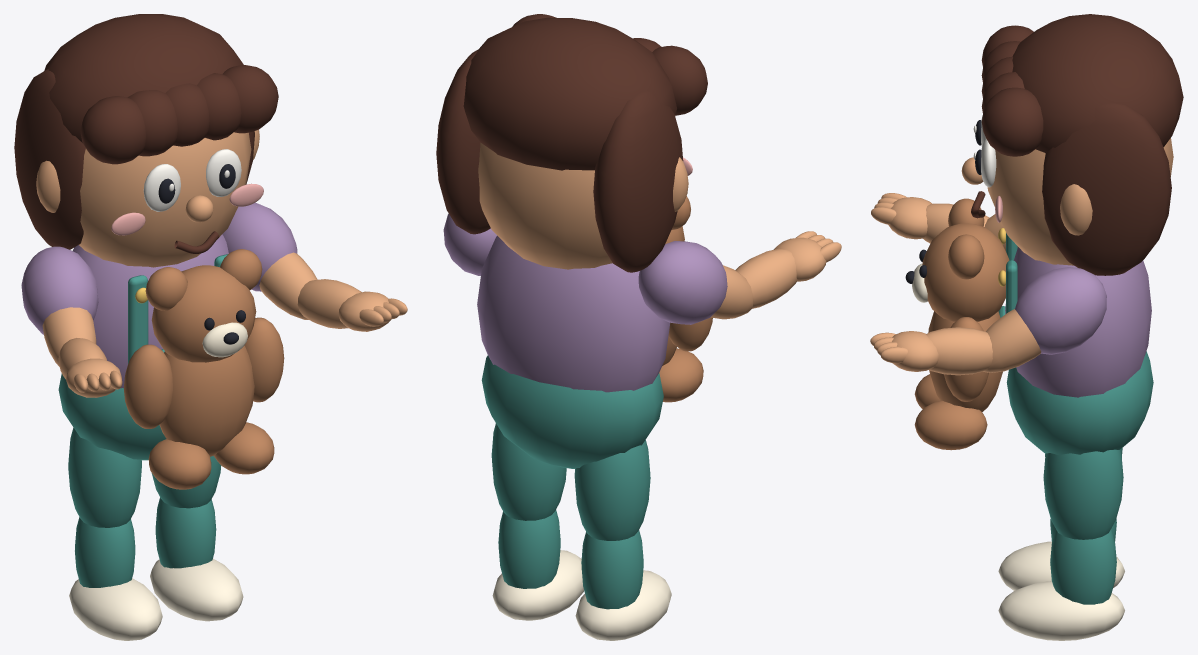
Rendered from mommy-hug.glb.
The picture shows the model from 3 angles, left to right: view 1: azimuth 30°, elevation 25°; view 2: azimuth 150°, elevation 25°; view 3: azimuth 270°, elevation 25°; orthographic projection. The views are drawn at different scales.
Visible parts, largest first — view 1: clay head, hair cap, bob hair, bear tummy, bear head, trouser leg, soft shirt, shirt sleeve, overalls, little shoe, little shoe.001, fringe (+28 smaller); view 2: hair cap, soft shirt, overalls, bob hair, clay head, trouser leg, shirt sleeve, bob hair.001, trouser leg.001, lower leg.001, lower leg, little shoe (+9 smaller); view 3: bob hair.001, hair cap, soft shirt, overalls, trouser leg.001, shirt sleeve.001, bear head, clay head, little shoe.001, lower leg.001, fringe.004, bear foot.001 (+18 smaller).
Boxes of the visible parts, <box> form: clay head: <box>79,132,251,267</box>; hair cap: <box>44,14,243,142</box>; bob hair: <box>14,69,85,249</box>; bear tummy: <box>159,346,254,456</box>; bear head: <box>151,265,256,362</box>; trouser leg: <box>68,427,141,527</box>; soft shirt: <box>72,234,228,388</box>; shirt sleeve: <box>21,246,98,334</box>; overalls: <box>58,373,166,460</box>; little shoe: <box>69,578,162,640</box>; little shoe.001: <box>150,558,243,621</box>; fringe: <box>80,96,145,164</box>; hair cap: <box>463,17,676,170</box>; soft shirt: <box>477,235,670,392</box>; overalls: <box>481,355,663,468</box>; bob hair: <box>593,91,683,272</box>; clay head: <box>478,142,612,269</box>; trouser leg: <box>574,440,650,540</box>; shirt sleeve: <box>638,241,727,324</box>; bob hair.001: <box>436,49,490,234</box>; trouser leg.001: <box>491,423,566,520</box>; lower leg.001: <box>498,510,560,588</box>; lower leg: <box>581,530,643,609</box>; little shoe: <box>575,570,671,640</box>; bob hair.001: <box>1042,103,1171,275</box>; hair cap: <box>1012,14,1183,153</box>; soft shirt: <box>1005,247,1151,397</box>; overalls: <box>1006,351,1153,454</box>; trouser leg.001: <box>1043,449,1123,539</box>; shirt sleeve.001: <box>1015,267,1106,354</box>; bear head: <box>922,223,1009,321</box>; clay head: <box>986,138,1173,265</box>; little shoe.001: <box>998,581,1124,640</box>; lower leg.001: <box>1050,529,1116,604</box>; fringe.004: <box>981,87,1043,156</box>; bear foot.001: <box>914,400,987,450</box>.
Bounding box in the file's own units: 1.25 × 2.14 × 1.03.
